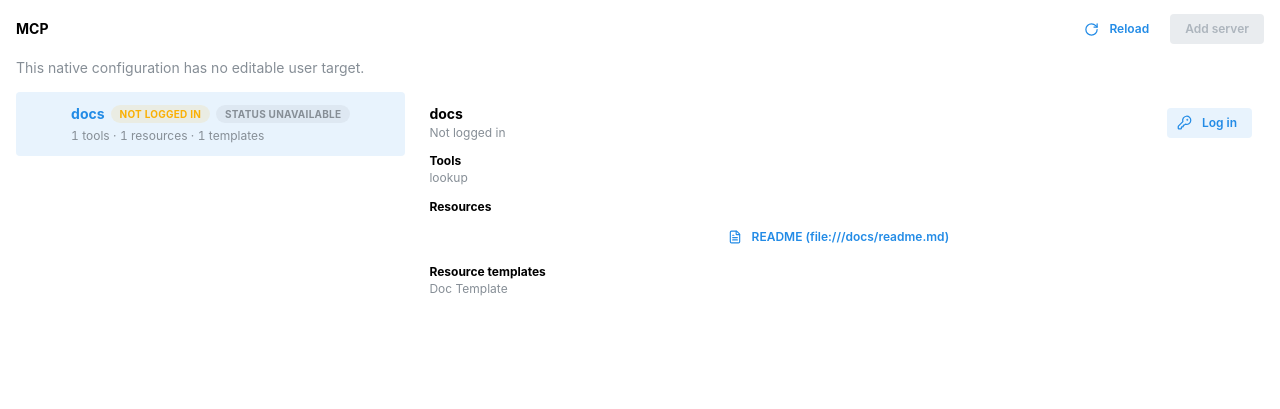
MCP runtime preferences › shows MCP inventory and resource details
Expected: the 1st text "docs" is shown, left=71, top=104, right=105, bottom=125
Expected: the text "lookup" is shown, left=429, top=170, right=468, bottom=185
What coordinates should you click on to do the following:
click the button "README (file:///docs/readme.md)"
I would click on:
 (841, 237)
Its box is left=429, top=222, right=1252, bottom=252.
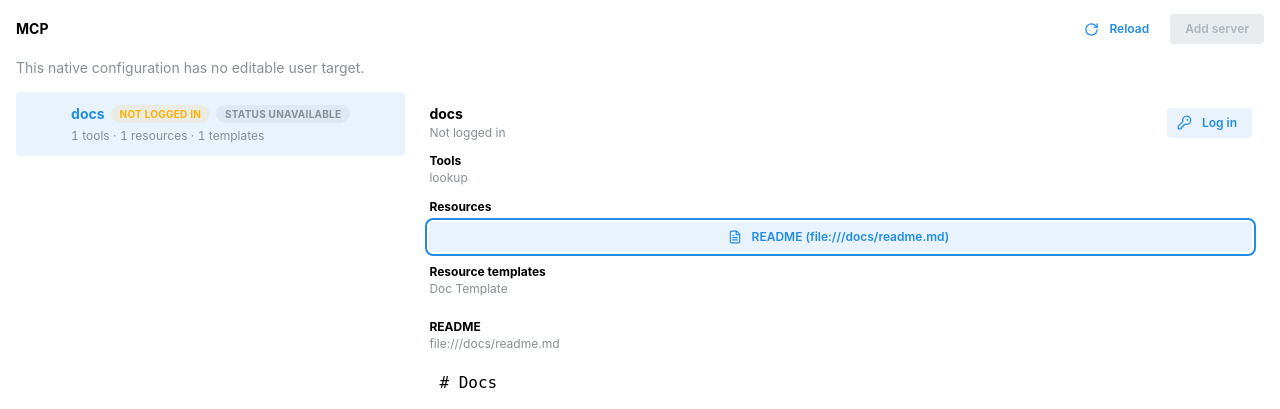
Expected: the text "# Docs" is shown, left=439, top=373, right=497, bottom=392
